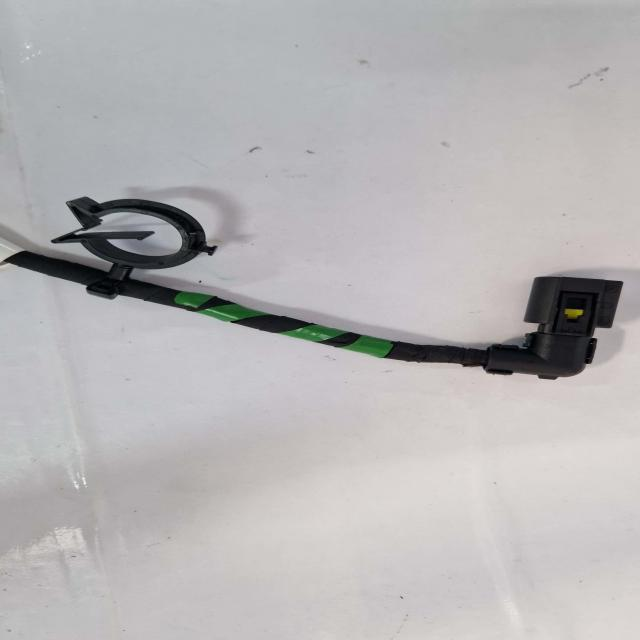AJ20_D6_Cable: (0, 249, 475, 362)
Clip: (50, 195, 216, 298)
Connector: (487, 274, 625, 378)
